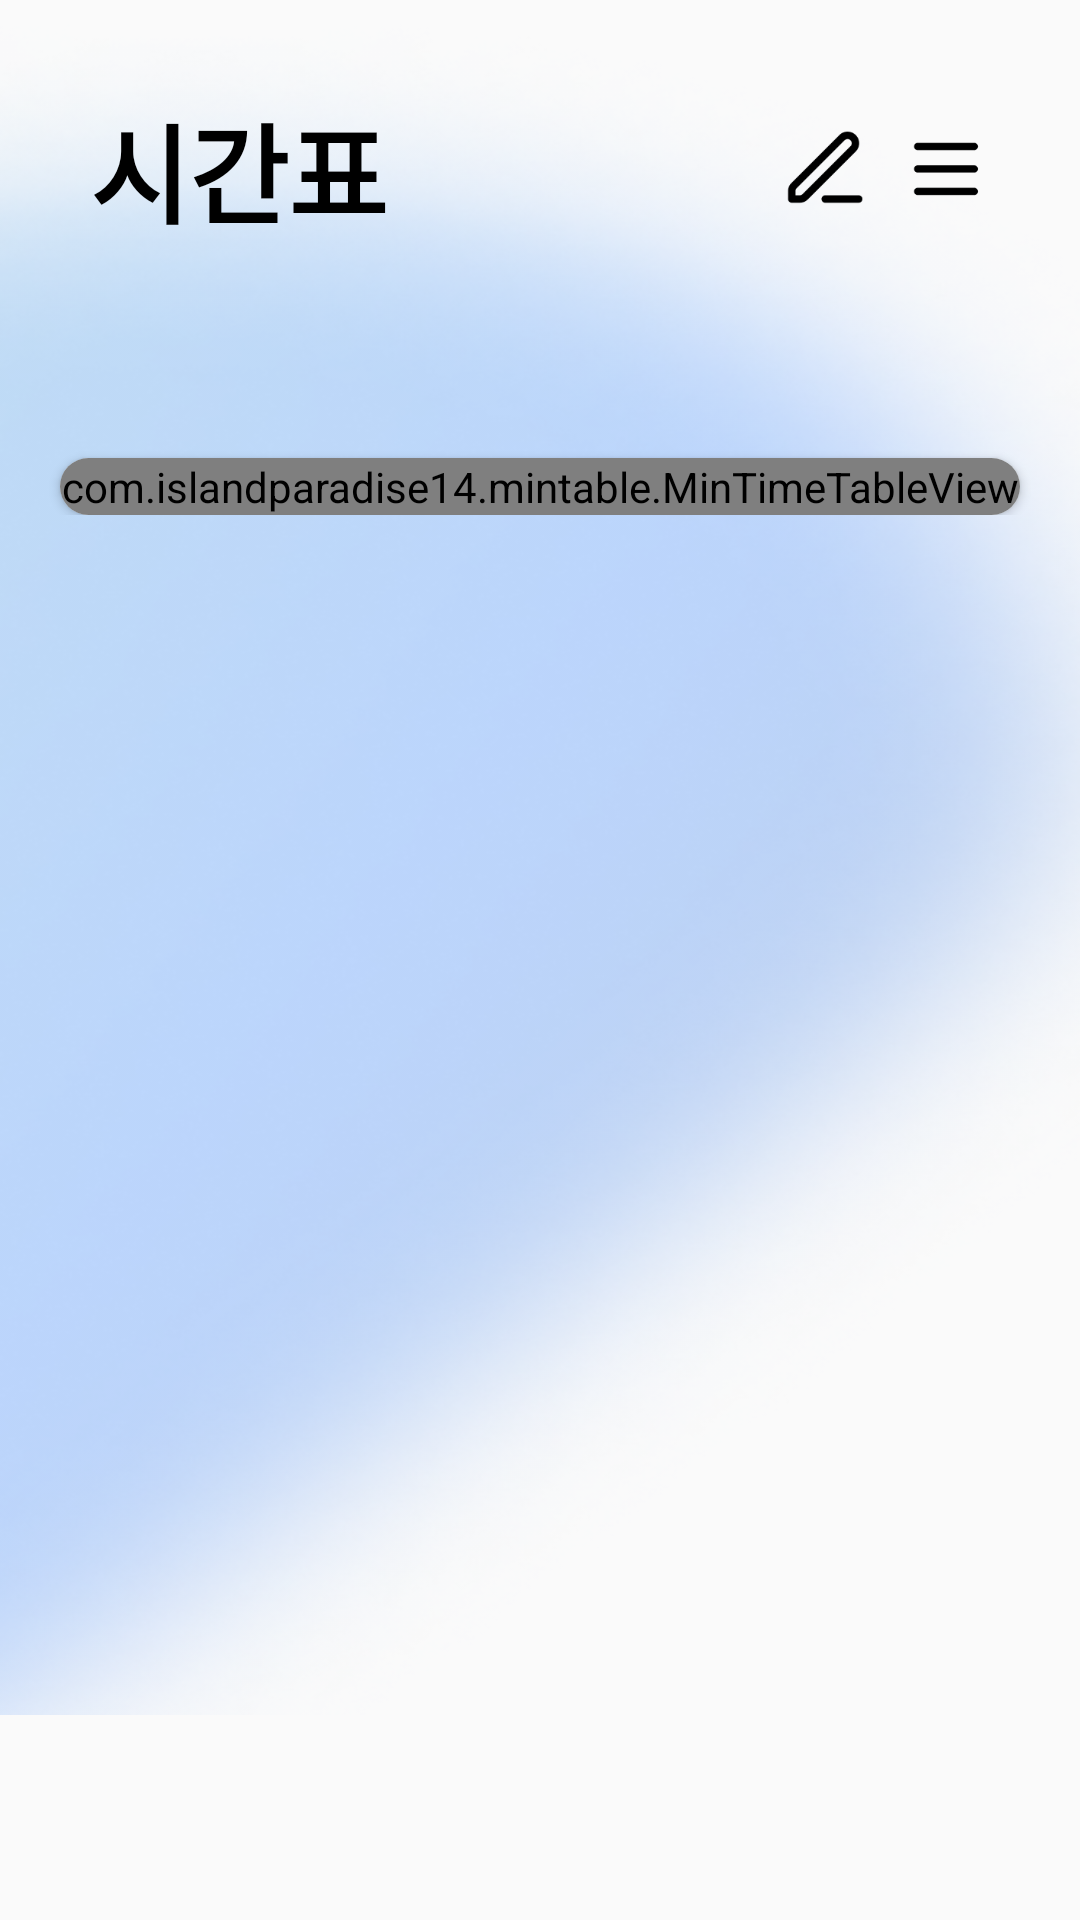

Icon click points for this 1080px×1920px phone screenshot, format (x=x, y=y):
edit: (x=825, y=167)
menu: (x=945, y=169)
